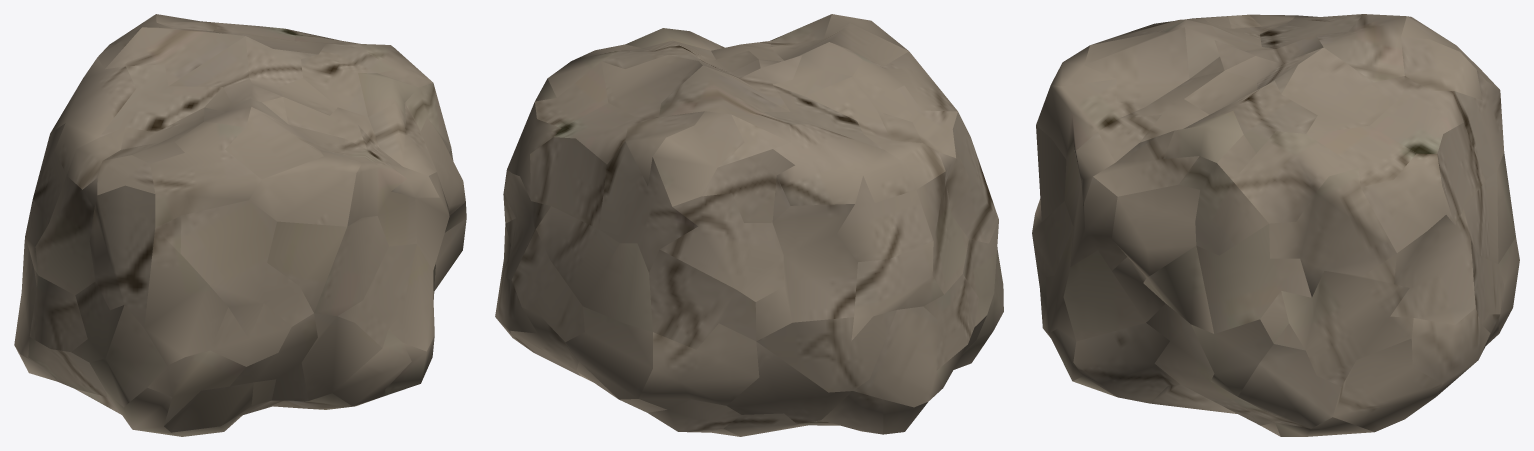
File: RockMedium.lod1.glb
The picture shows the model from 3 angles, left to right: view 1: azimuth 30°, elevation 25°; view 2: azimuth 150°, elevation 25°; view 3: azimuth 270°, elevation 25°; orthographic projection. The views are drawn at different scales.
Size of the model in its own units: 1.32 by 0.9897 by 1.28.
Materials: 1 (1 with a texture image).
